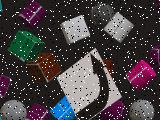Left: (57, 48, 122, 120)
